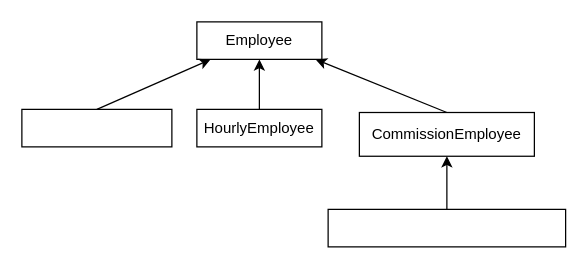
Image size: 588x269. Some labels were removed from this diagram. Here are the shapes that lost their labels. From the top down, the centre of each, then its label:
At point (96, 127): "SalariedEmployee".
At point (446, 227): "BasePlusCommissionEmployee".
